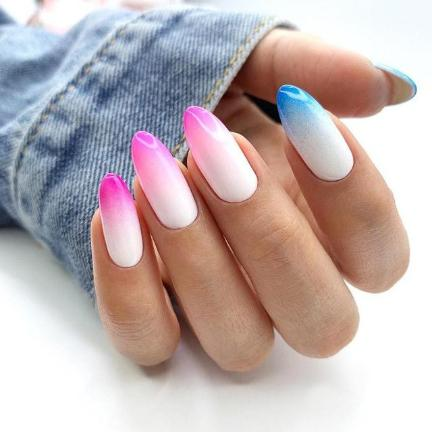Nail: (276, 84, 353, 182), (183, 106, 257, 203), (131, 131, 198, 229), (98, 174, 144, 268)
